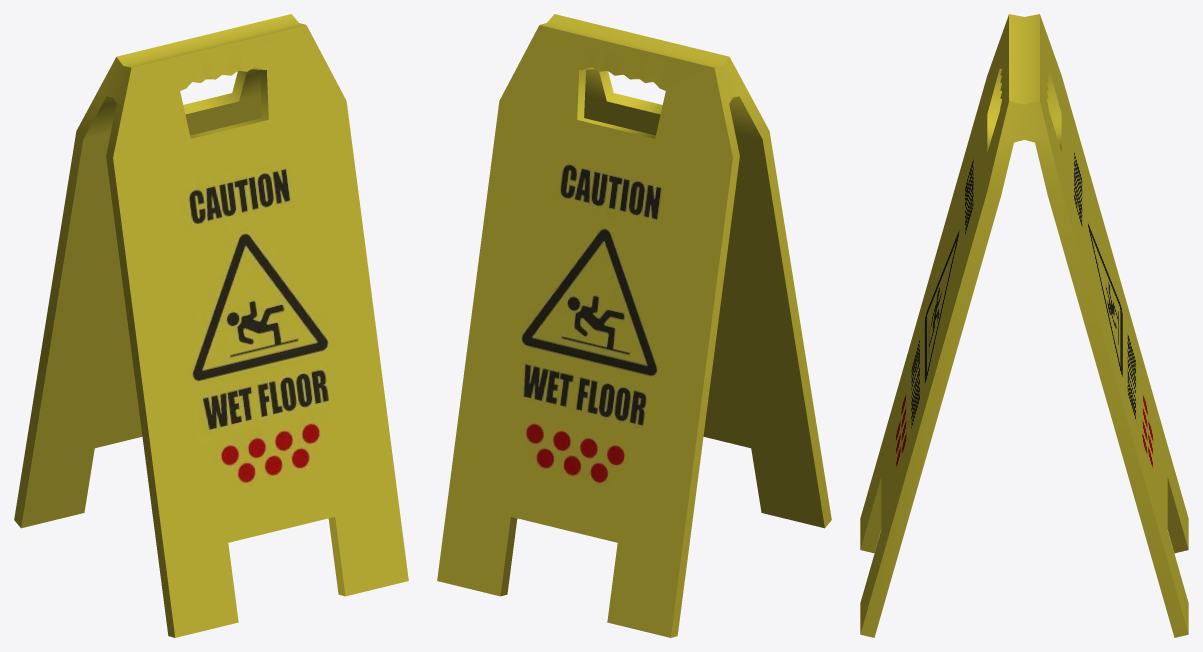
The model's file is WetFloorSign_01.glb.
3 views of the same model, side by side, from view 1: azimuth 30°, elevation 25°; view 2: azimuth 150°, elevation 25°; view 3: azimuth 270°, elevation 25° (orthographic).
Visible parts, largest first — view 1: WetFloorSign_01; view 2: WetFloorSign_01; view 3: WetFloorSign_01.
Boxes of the visible parts, box(x1,y1,x2,y2) form: WetFloorSign_01: box(14, 14, 408, 637); WetFloorSign_01: box(437, 14, 831, 637); WetFloorSign_01: box(860, 14, 1188, 637).
Bounding box in the file's own units: 0.3 × 0.6295 × 0.3585.
Materials: 1 (1 with a texture image).
